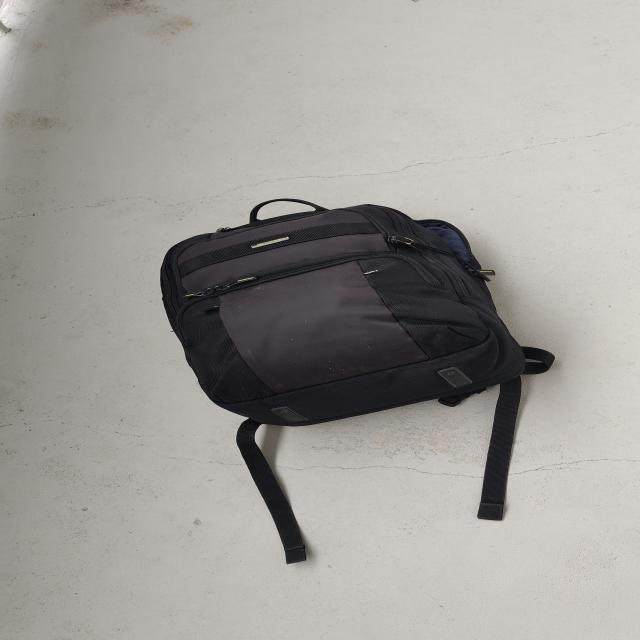backpack: (146, 190, 541, 437)
